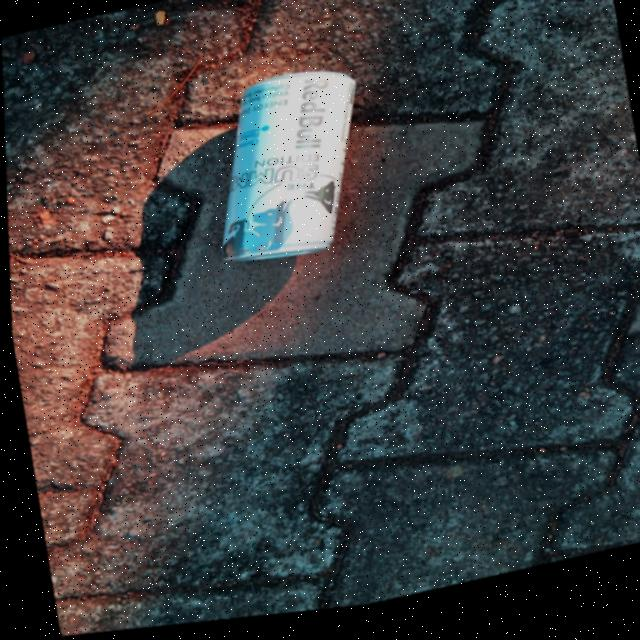Redbull Summer Edition: (178, 60, 391, 280)
